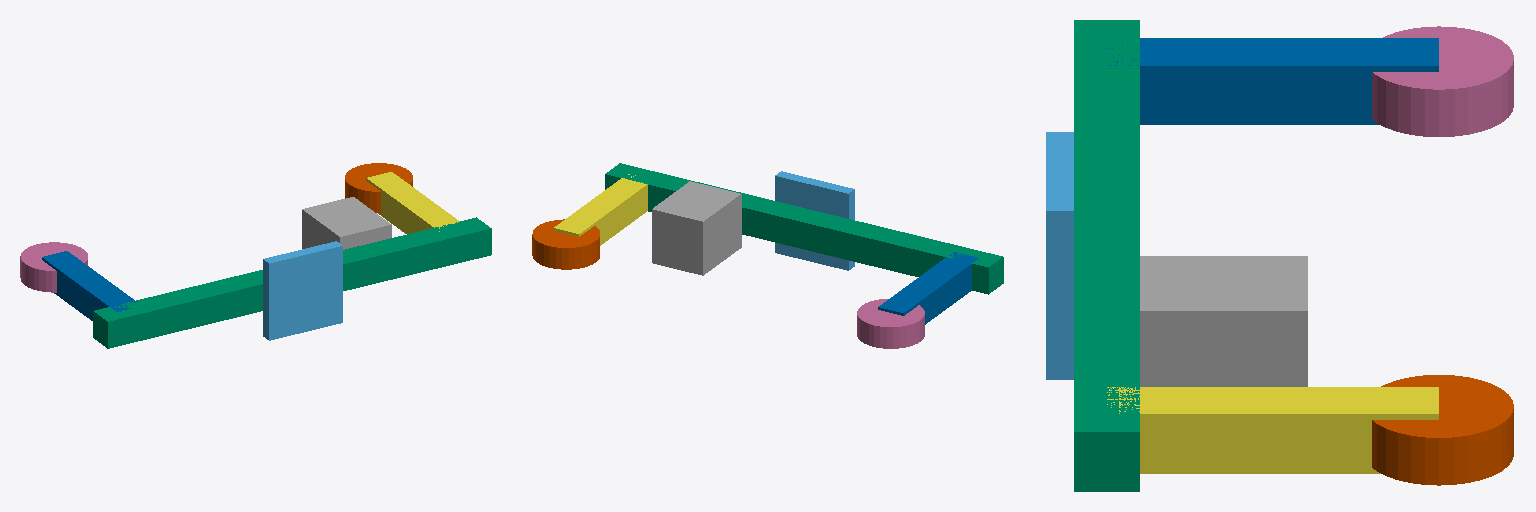
robot.urdf — ur10e:
<?xml version="1.0"?>
<robot name="ur10e" xmlns:tesseract="https://github.com/tesseract-robotics/tesseract" tesseract:make_convex="true">
  <link name="world"/>
  <joint name="world-base" type="fixed"><parent link="world"/><child link="base_link"/><origin xyz="0 0 0" rpy="0 0 0"/></joint>
  <link name="base_link"><visual><origin xyz="0 0 0" rpy="0 0 0"/><geometry><mesh filename="package://cells/meshes/ur10e/visual/base.dae"/></geometry></visual><collision><origin xyz="0 0 0" rpy="0 0 0"/><geometry><mesh filename="package://cells/meshes/ur10e/base.stl"/></geometry></collision></link>
  <link name="shoulder_link"><visual><origin xyz="0 0 0" rpy="0 0 3.141592653589793"/><geometry><mesh filename="package://cells/meshes/ur10e/visual/shoulder.dae"/></geometry></visual><collision><origin xyz="0 0 0" rpy="0 0 3.141592653589793"/><geometry><mesh filename="package://cells/meshes/ur10e/shoulder.stl"/></geometry></collision></link>
  <link name="upper_arm_link"><visual><origin xyz="0 0 0.1762" rpy="1.5707963267948966 0 -1.5707963267948966"/><geometry><mesh filename="package://cells/meshes/ur10e/visual/upperarm.dae"/></geometry></visual><collision><origin xyz="0 0 0.1762" rpy="1.5707963267948966 0 -1.5707963267948966"/><geometry><mesh filename="package://cells/meshes/ur10e/upperarm.stl"/></geometry></collision></link>
  <link name="forearm_link"><visual><origin xyz="0 0 0.0393" rpy="1.5707963267948966 0 -1.5707963267948966"/><geometry><mesh filename="package://cells/meshes/ur10e/visual/forearm.dae"/></geometry></visual><collision><origin xyz="0 0 0.0393" rpy="1.5707963267948966 0 -1.5707963267948966"/><geometry><mesh filename="package://cells/meshes/ur10e/forearm.stl"/></geometry></collision></link>
  <link name="wrist_1_link"><visual><origin xyz="0 0 -0.135" rpy="1.5707963267948966 0 0"/><geometry><mesh filename="package://cells/meshes/ur10e/visual/wrist1.dae"/></geometry></visual><collision><origin xyz="0 0 -0.135" rpy="1.5707963267948966 0 0"/><geometry><mesh filename="package://cells/meshes/ur10e/wrist1.stl"/></geometry></collision></link>
  <link name="wrist_2_link"><visual><origin xyz="0 0 -0.12" rpy="0 0 0"/><geometry><mesh filename="package://cells/meshes/ur10e/visual/wrist2.dae"/></geometry></visual><collision><origin xyz="0 0 -0.12" rpy="0 0 0"/><geometry><mesh filename="package://cells/meshes/ur10e/wrist2.stl"/></geometry></collision></link>
  <link name="wrist_3_link"><visual><origin xyz="0 -0.0005 -0.1168" rpy="1.5707963267948966 0 0"/><geometry><mesh filename="package://cells/meshes/ur10e/visual/wrist3.dae"/></geometry></visual><collision><origin xyz="0 -0.0005 -0.1168" rpy="1.5707963267948966 0 0"/><geometry><mesh filename="package://cells/meshes/ur10e/wrist3.stl"/></geometry></collision></link>
  <link name="tool0"></link>
  <joint name="shoulder_pan_joint" type="revolute"><parent link="base_link"/><child link="shoulder_link"/><origin xyz="0 0 0.1807" rpy="0 0 3.141592653589793"/><axis xyz="0 0 1"/><limit effort="0" lower="-6.283185" upper="6.283185" velocity="2.094395"/></joint>
  <joint name="shoulder_lift_joint" type="revolute"><parent link="shoulder_link"/><child link="upper_arm_link"/><origin xyz="0 0 0" rpy="1.5707963267948966 0 0"/><axis xyz="0 0 1"/><limit effort="0" lower="-6.283185" upper="6.283185" velocity="2.094395"/></joint>
  <joint name="elbow_joint" type="revolute"><parent link="upper_arm_link"/><child link="forearm_link"/><origin xyz="-0.6127 0 0" rpy="0 0 0"/><axis xyz="0 0 1"/><limit effort="0" lower="-3.141593" upper="3.141593" velocity="3.141593"/></joint>
  <joint name="wrist_1_joint" type="revolute"><parent link="forearm_link"/><child link="wrist_1_link"/><origin xyz="-0.57155 0 0.17415" rpy="0 0 0"/><axis xyz="0 0 1"/><limit effort="0" lower="-6.283185" upper="6.283185" velocity="3.141593"/></joint>
  <joint name="wrist_2_joint" type="revolute"><parent link="wrist_1_link"/><child link="wrist_2_link"/><origin xyz="0 -0.11985 0" rpy="1.5707963267948966 0 0"/><axis xyz="0 0 1"/><limit effort="0" lower="-6.283185" upper="6.283185" velocity="3.141593"/></joint>
  <joint name="wrist_3_joint" type="revolute"><parent link="wrist_2_link"/><child link="wrist_3_link"/><origin xyz="0 0.11655 0" rpy="1.5707963267948966 3.141592653589793 3.141592653589793"/><axis xyz="0 0 1"/><limit effort="0" lower="-6.283185" upper="6.283185" velocity="3.141593"/></joint>
  <joint name="wrist_3-tool0" type="fixed"><parent link="wrist_3_link"/><child link="tool0"/><origin xyz="0 0 0" rpy="0 0 0"/></joint>
  <link name="wiresaw_plate"><visual><origin xyz="0 0 0.0075" rpy="0 0 0"/><geometry><box size="0.1 0.1 0.015"/></geometry></visual><collision><origin xyz="0 0 0.0075" rpy="0 0 0"/><geometry><box size="0.1 0.1 0.015"/></geometry></collision></link>
  <joint name="tool0-wiresaw_plate" type="fixed"><parent link="tool0"/><child link="wiresaw_plate"/><origin xyz="0 0 0" rpy="0 0 0"/></joint>
  <link name="wiresaw_beam"><visual><origin xyz="0 0 0.0325" rpy="0 0 0"/><geometry><box size="0.52 0.035 0.035"/></geometry></visual><collision><origin xyz="0 0 0.0325" rpy="0 0 0"/><geometry><box size="0.52 0.035 0.035"/></geometry></collision></link>
  <joint name="tool0-wiresaw_beam" type="fixed"><parent link="tool0"/><child link="wiresaw_beam"/><origin xyz="0 0 0" rpy="0 0 0"/></joint>
  <link name="wiresaw_arm_a"><visual><origin xyz="-0.22 0 0.12125" rpy="0 0 0"/><geometry><box size="0.035 0.035 0.1775"/></geometry></visual><collision><origin xyz="-0.22 0 0.12125" rpy="0 0 0"/><geometry><box size="0.035 0.035 0.1775"/></geometry></collision></link>
  <joint name="tool0-wiresaw_arm_a" type="fixed"><parent link="tool0"/><child link="wiresaw_arm_a"/><origin xyz="0 0 0" rpy="0 0 0"/></joint>
  <link name="wiresaw_arm_b"><visual><origin xyz="0.22 0 0.12125" rpy="0 0 0"/><geometry><box size="0.035 0.035 0.1775"/></geometry></visual><collision><origin xyz="0.22 0 0.12125" rpy="0 0 0"/><geometry><box size="0.035 0.035 0.1775"/></geometry></collision></link>
  <joint name="tool0-wiresaw_arm_b" type="fixed"><parent link="tool0"/><child link="wiresaw_arm_b"/><origin xyz="0 0 0" rpy="0 0 0"/></joint>
  <link name="wiresaw_pulley_a"><visual><origin xyz="-0.22 0 0.21" rpy="1.5707963267948966 0 0"/><geometry><cylinder radius="0.04" length="0.028000000000000004"/></geometry></visual><collision><origin xyz="-0.22 0 0.21" rpy="1.5707963267948966 0 0"/><geometry><cylinder radius="0.04" length="0.028000000000000004"/></geometry></collision></link>
  <joint name="tool0-wiresaw_pulley_a" type="fixed"><parent link="tool0"/><child link="wiresaw_pulley_a"/><origin xyz="0 0 0" rpy="0 0 0"/></joint>
  <link name="wiresaw_pulley_b"><visual><origin xyz="0.22 0 0.21" rpy="1.5707963267948966 0 0"/><geometry><cylinder radius="0.04" length="0.028000000000000004"/></geometry></visual><collision><origin xyz="0.22 0 0.21" rpy="1.5707963267948966 0 0"/><geometry><cylinder radius="0.04" length="0.028000000000000004"/></geometry></collision></link>
  <joint name="tool0-wiresaw_pulley_b" type="fixed"><parent link="tool0"/><child link="wiresaw_pulley_b"/><origin xyz="0 0 0" rpy="0 0 0"/></joint>
  <link name="wiresaw_motor"><visual><origin xyz="-0.11 0 0.095" rpy="0 0 0"/><geometry><box size="0.07 0.07 0.09"/></geometry></visual><collision><origin xyz="-0.11 0 0.095" rpy="0 0 0"/><geometry><box size="0.07 0.07 0.09"/></geometry></collision></link>
  <joint name="tool0-wiresaw_motor" type="fixed"><parent link="tool0"/><child link="wiresaw_motor"/><origin xyz="0 0 0" rpy="0 0 0"/></joint>
</robot>

--- Render facts (derived) ---
3 views of the same robot in one strip: view 1: azimuth 30°, elevation 25°; view 2: azimuth 150°, elevation 25°; view 3: azimuth 270°, elevation 25° (orthographic).
Model ur10e with 16 links and 15 joints (6 revolute, 9 fixed), rooted at world, posed all joints at 0.
Links seen in each view (by area): view 1: wiresaw_beam, wiresaw_plate, wiresaw_motor, wiresaw_arm_b, wiresaw_arm_a, wiresaw_pulley_b, wiresaw_pulley_a; view 2: wiresaw_beam, wiresaw_motor, wiresaw_plate, wiresaw_arm_b, wiresaw_arm_a, wiresaw_pulley_a, wiresaw_pulley_b; view 3: wiresaw_beam, wiresaw_arm_a, wiresaw_arm_b, wiresaw_motor, wiresaw_pulley_a, wiresaw_pulley_b, wiresaw_plate.
Boxes of the visible links, left/top/right/bottom form: wiresaw_beam: left=93, top=217, right=491, bottom=348; wiresaw_plate: left=263, top=241, right=342, bottom=340; wiresaw_motor: left=302, top=197, right=391, bottom=249; wiresaw_arm_b: left=42, top=251, right=136, bottom=320; wiresaw_arm_a: left=366, top=172, right=459, bottom=233; wiresaw_pulley_b: left=20, top=242, right=87, bottom=292; wiresaw_pulley_a: left=345, top=163, right=412, bottom=212; wiresaw_beam: left=605, top=163, right=1003, bottom=294; wiresaw_motor: left=652, top=181, right=741, bottom=275; wiresaw_plate: left=775, top=171, right=854, bottom=270; wiresaw_arm_b: left=878, top=252, right=978, bottom=324; wiresaw_arm_a: left=554, top=174, right=647, bottom=245; wiresaw_pulley_a: left=532, top=219, right=599, bottom=269; wiresaw_pulley_b: left=857, top=299, right=924, bottom=348; wiresaw_beam: left=1074, top=20, right=1139, bottom=491; wiresaw_arm_a: left=1107, top=387, right=1438, bottom=473; wiresaw_arm_b: left=1107, top=38, right=1438, bottom=124; wiresaw_motor: left=1140, top=256, right=1307, bottom=386; wiresaw_pulley_a: left=1372, top=375, right=1513, bottom=485; wiresaw_pulley_b: left=1372, top=26, right=1513, bottom=136; wiresaw_plate: left=1046, top=132, right=1073, bottom=379.
Size in the robot's own frame: 0.52 by 0.25 by 0.1 metres.
Meshes: 7 distinct files referenced, 0 mesh visuals loaded (none loaded); not drawn: 7 (reference not matched to a file when rendering).
